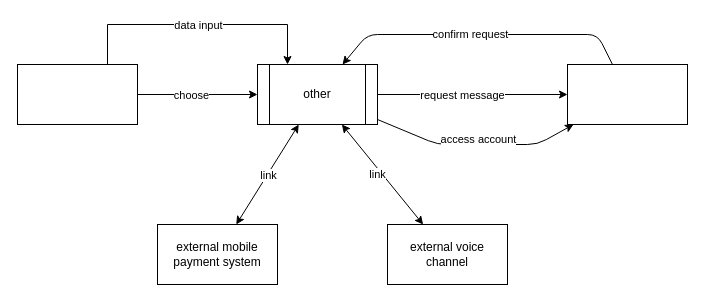
Image size: 705x302. Some labels were removed from this diagram. Each missing label, with the centre of its shape:
"financial institution" goes at (627,94).
"user" goes at (77,94).
